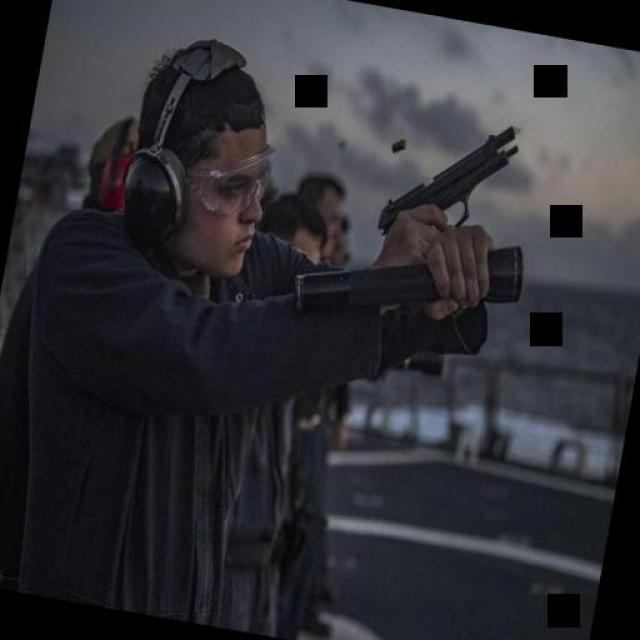gun: (376, 101, 522, 250)
